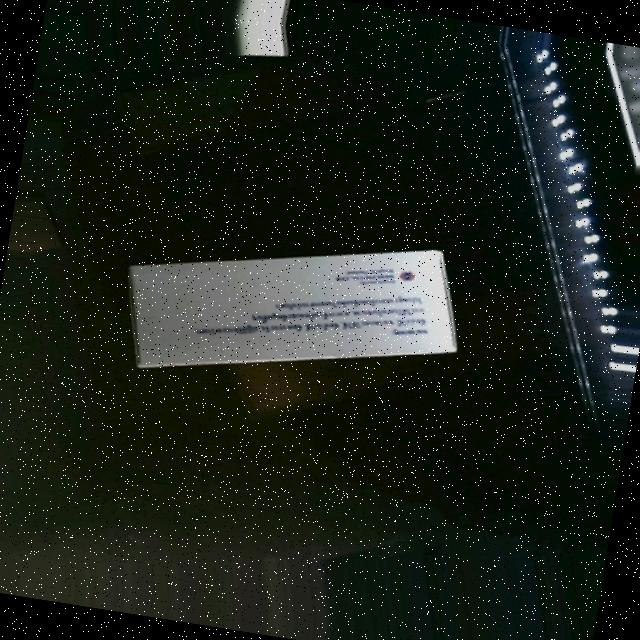sefloc: (125, 244, 455, 370)
